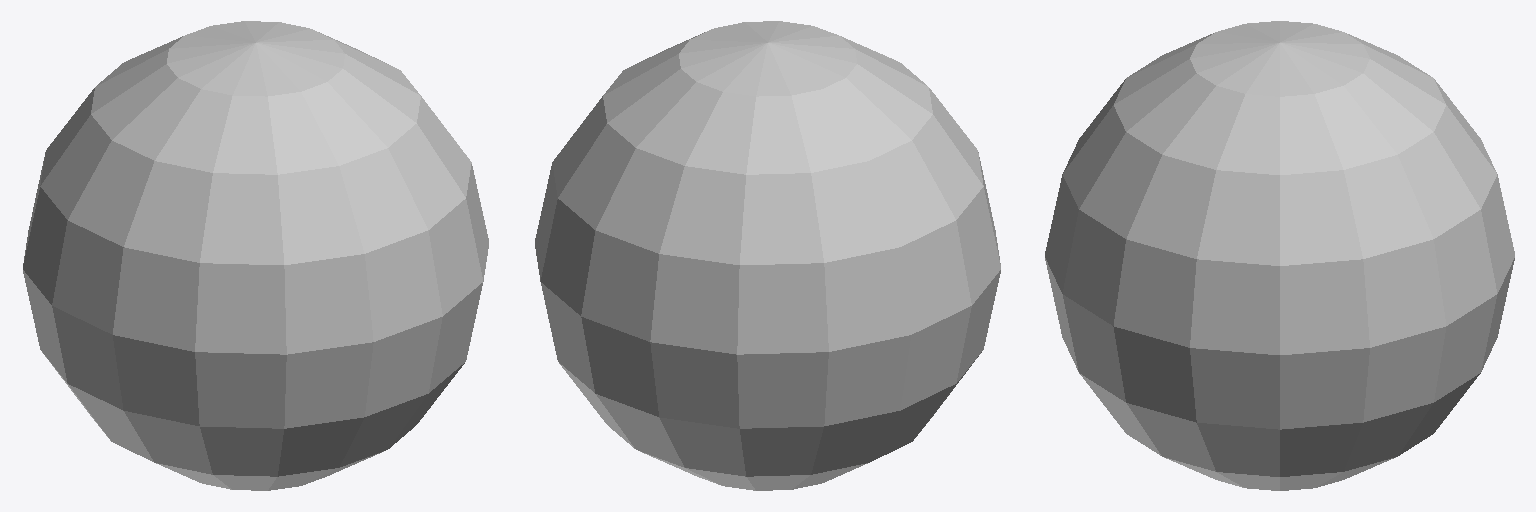
Rendered from Collider.obj.
3 renders of one model, left to right at view 1: azimuth 30°, elevation 25°; view 2: azimuth 150°, elevation 25°; view 3: azimuth 270°, elevation 25°, orthographic.
Visible parts, largest first — view 1: Sphere001; view 2: Sphere001; view 3: Sphere001.
Part boxes in pixels (x1,y1,x2,y2): Sphere001: (23, 21, 488, 490); Sphere001: (535, 21, 1000, 490); Sphere001: (1045, 21, 1514, 490).
Size of the model in its own units: 2 by 2 by 2.